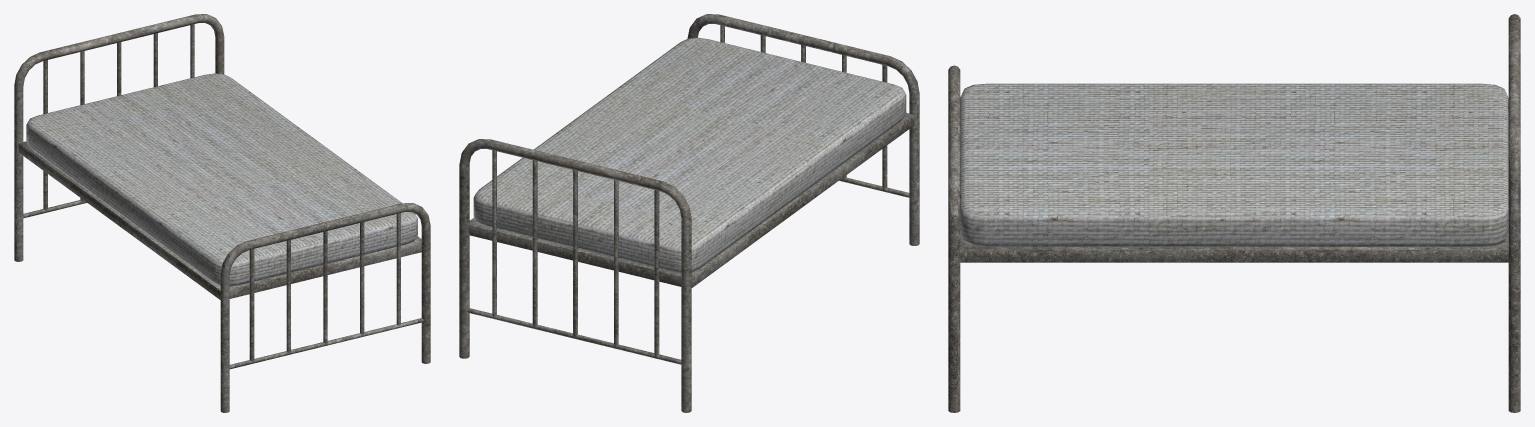
File: Bed.FBX
The picture shows the model from 3 angles, left to right: view 1: azimuth 30°, elevation 25°; view 2: azimuth 150°, elevation 25°; view 3: azimuth 270°, elevation 25°; orthographic projection. The views are drawn at different scales.
Parts seen in each view (by area): view 1: BedWithBlanket; view 2: BedWithBlanket; view 3: BedWithBlanket.
Part boxes in pixels (left/top/right/bottom): BedWithBlanket: left=14, top=14, right=430, bottom=412; BedWithBlanket: left=459, top=14, right=919, bottom=412; BedWithBlanket: left=948, top=14, right=1520, bottom=412.
Bounding box in the file's own units: 225 × 208 × 393.
